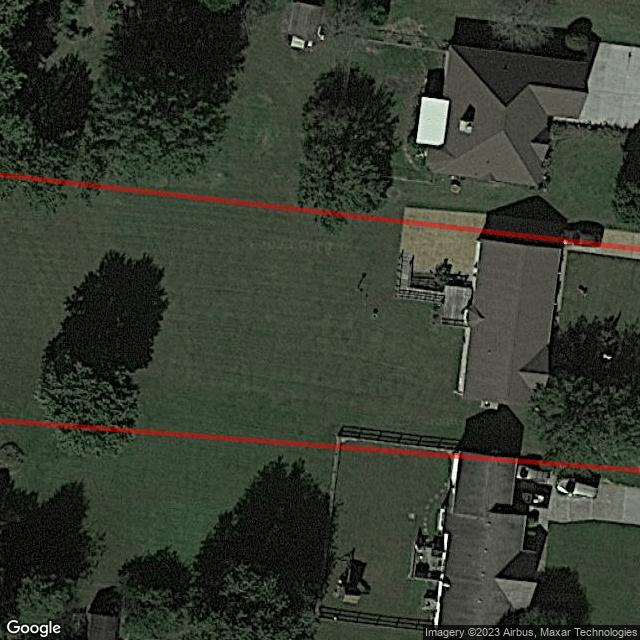Driveway: (481, 234, 640, 311), (402, 225, 477, 274)
House: (457, 240, 561, 410)
Other: (396, 249, 468, 326)
